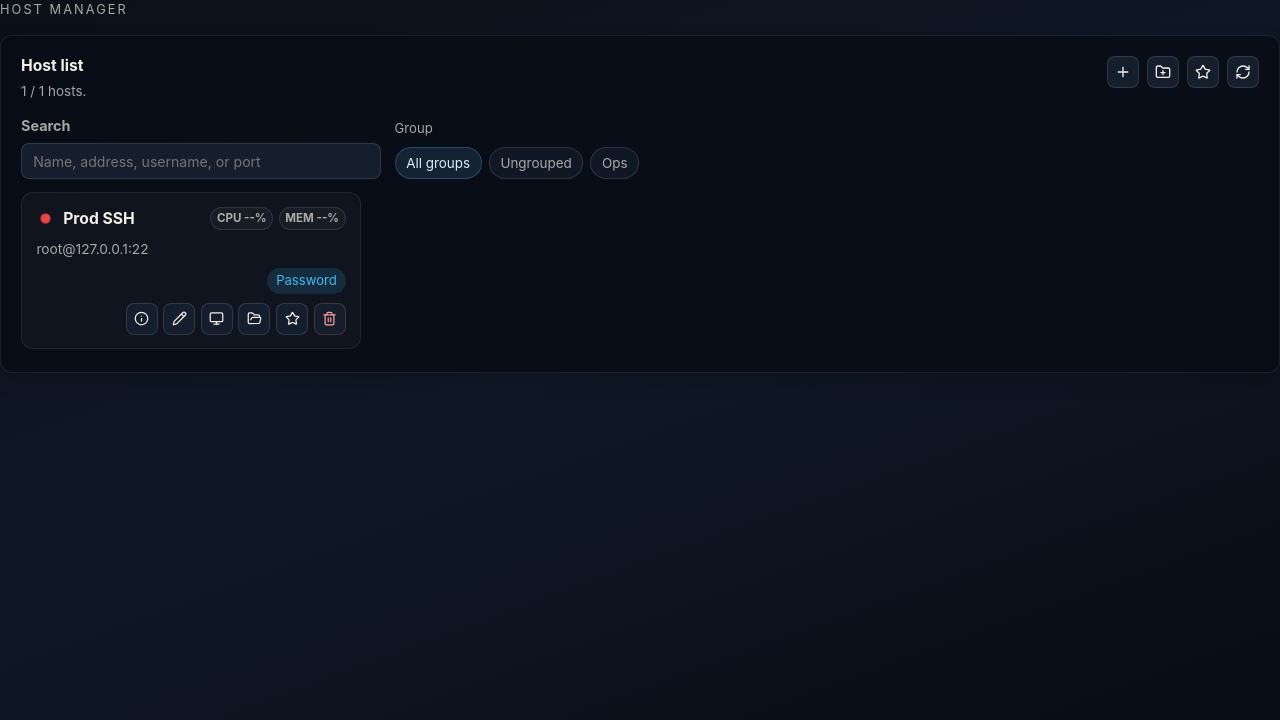
Test case: HostsPage › shows an unreachable status in the host detail overview when no connectivity result is available
Check: the text "Prod SSH" is shown, box [63,209,135,228]
What coordinates should you click on to do the following:
click the button named "View details"
I would click on:
 (142, 319)
Its box is [126,303,158,335].
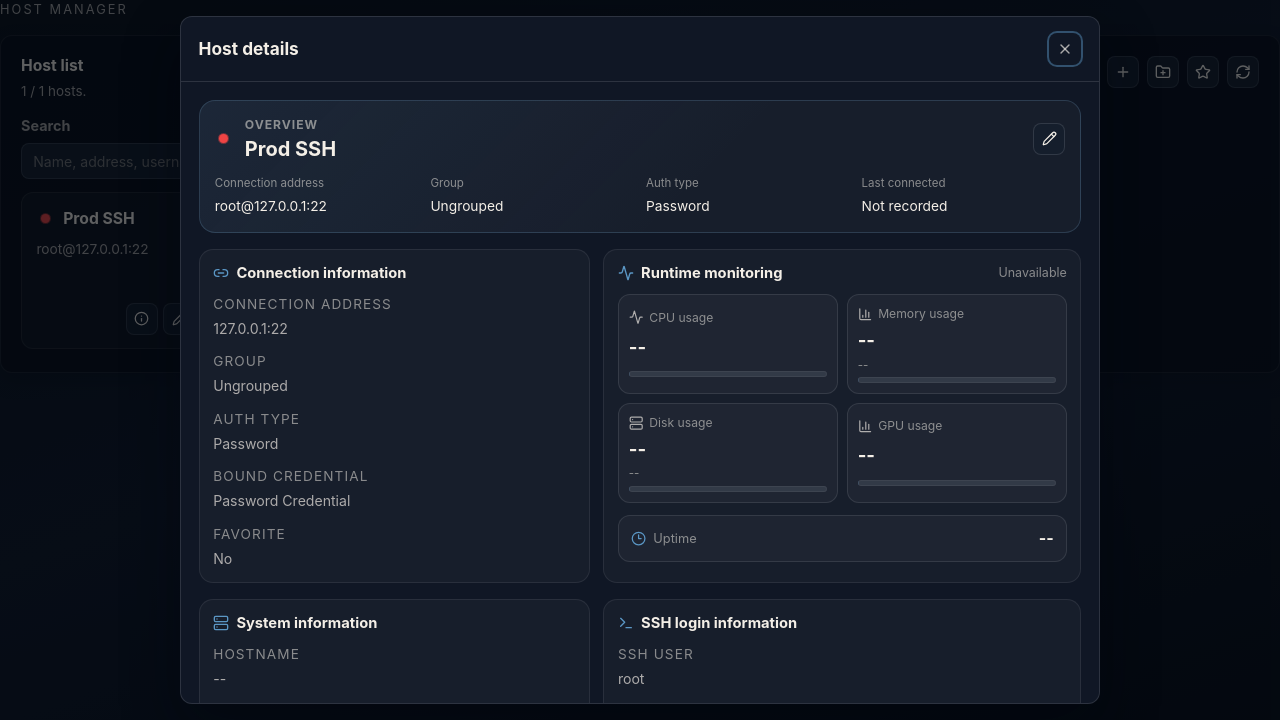
Check: the element with class "host-connectivity-breathing-dot-unreachable" below "Overview" is shown, box [219,134,228,143]
Check: the text "Unavailable" is shown, box [998,264,1067,283]
